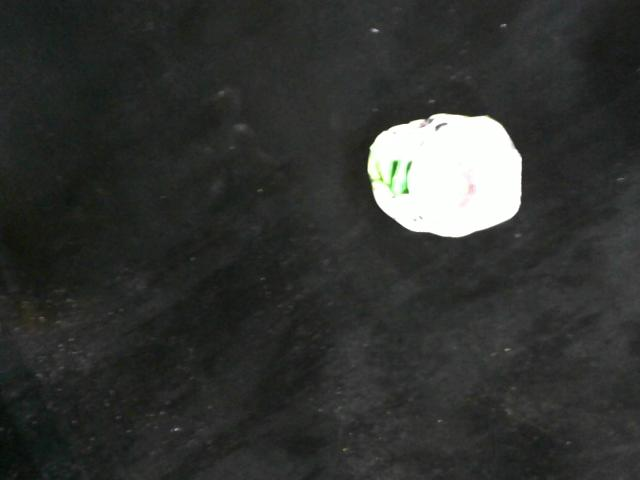can: (360, 105, 529, 242)
